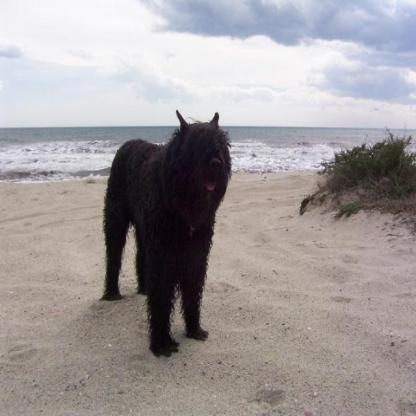Bouvier_des_Flandres: (101, 101, 233, 358)
